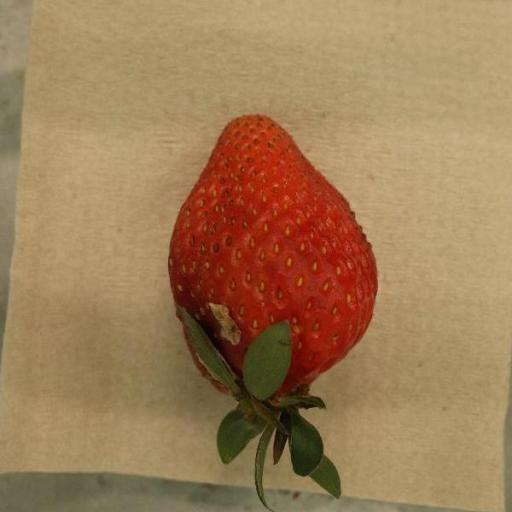Strawberry: (168, 115, 378, 505)
